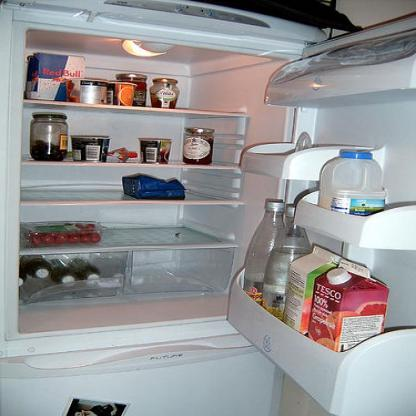bottle: (263, 206, 314, 320), (243, 199, 284, 307), (19, 255, 52, 279), (46, 258, 76, 284), (66, 257, 100, 279), (18, 268, 26, 287)
